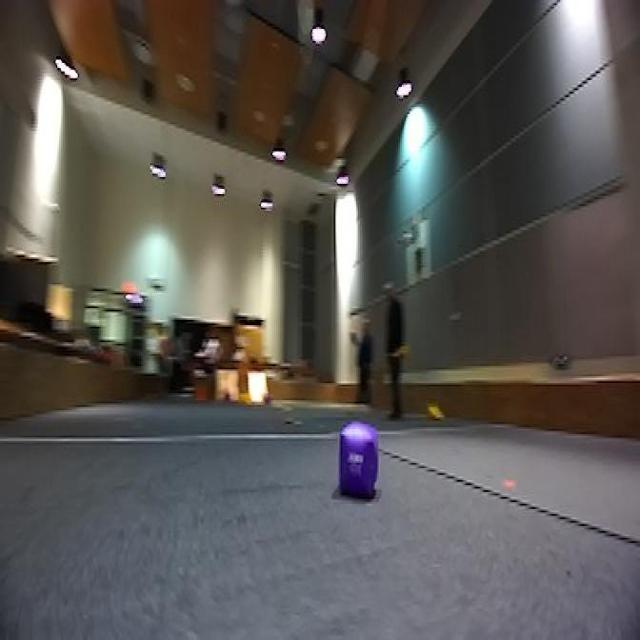frc_cone: (425, 395, 445, 422), (232, 388, 254, 405), (392, 342, 409, 363)
frc_cube: (336, 424, 378, 495), (219, 388, 233, 405), (263, 390, 275, 407)
